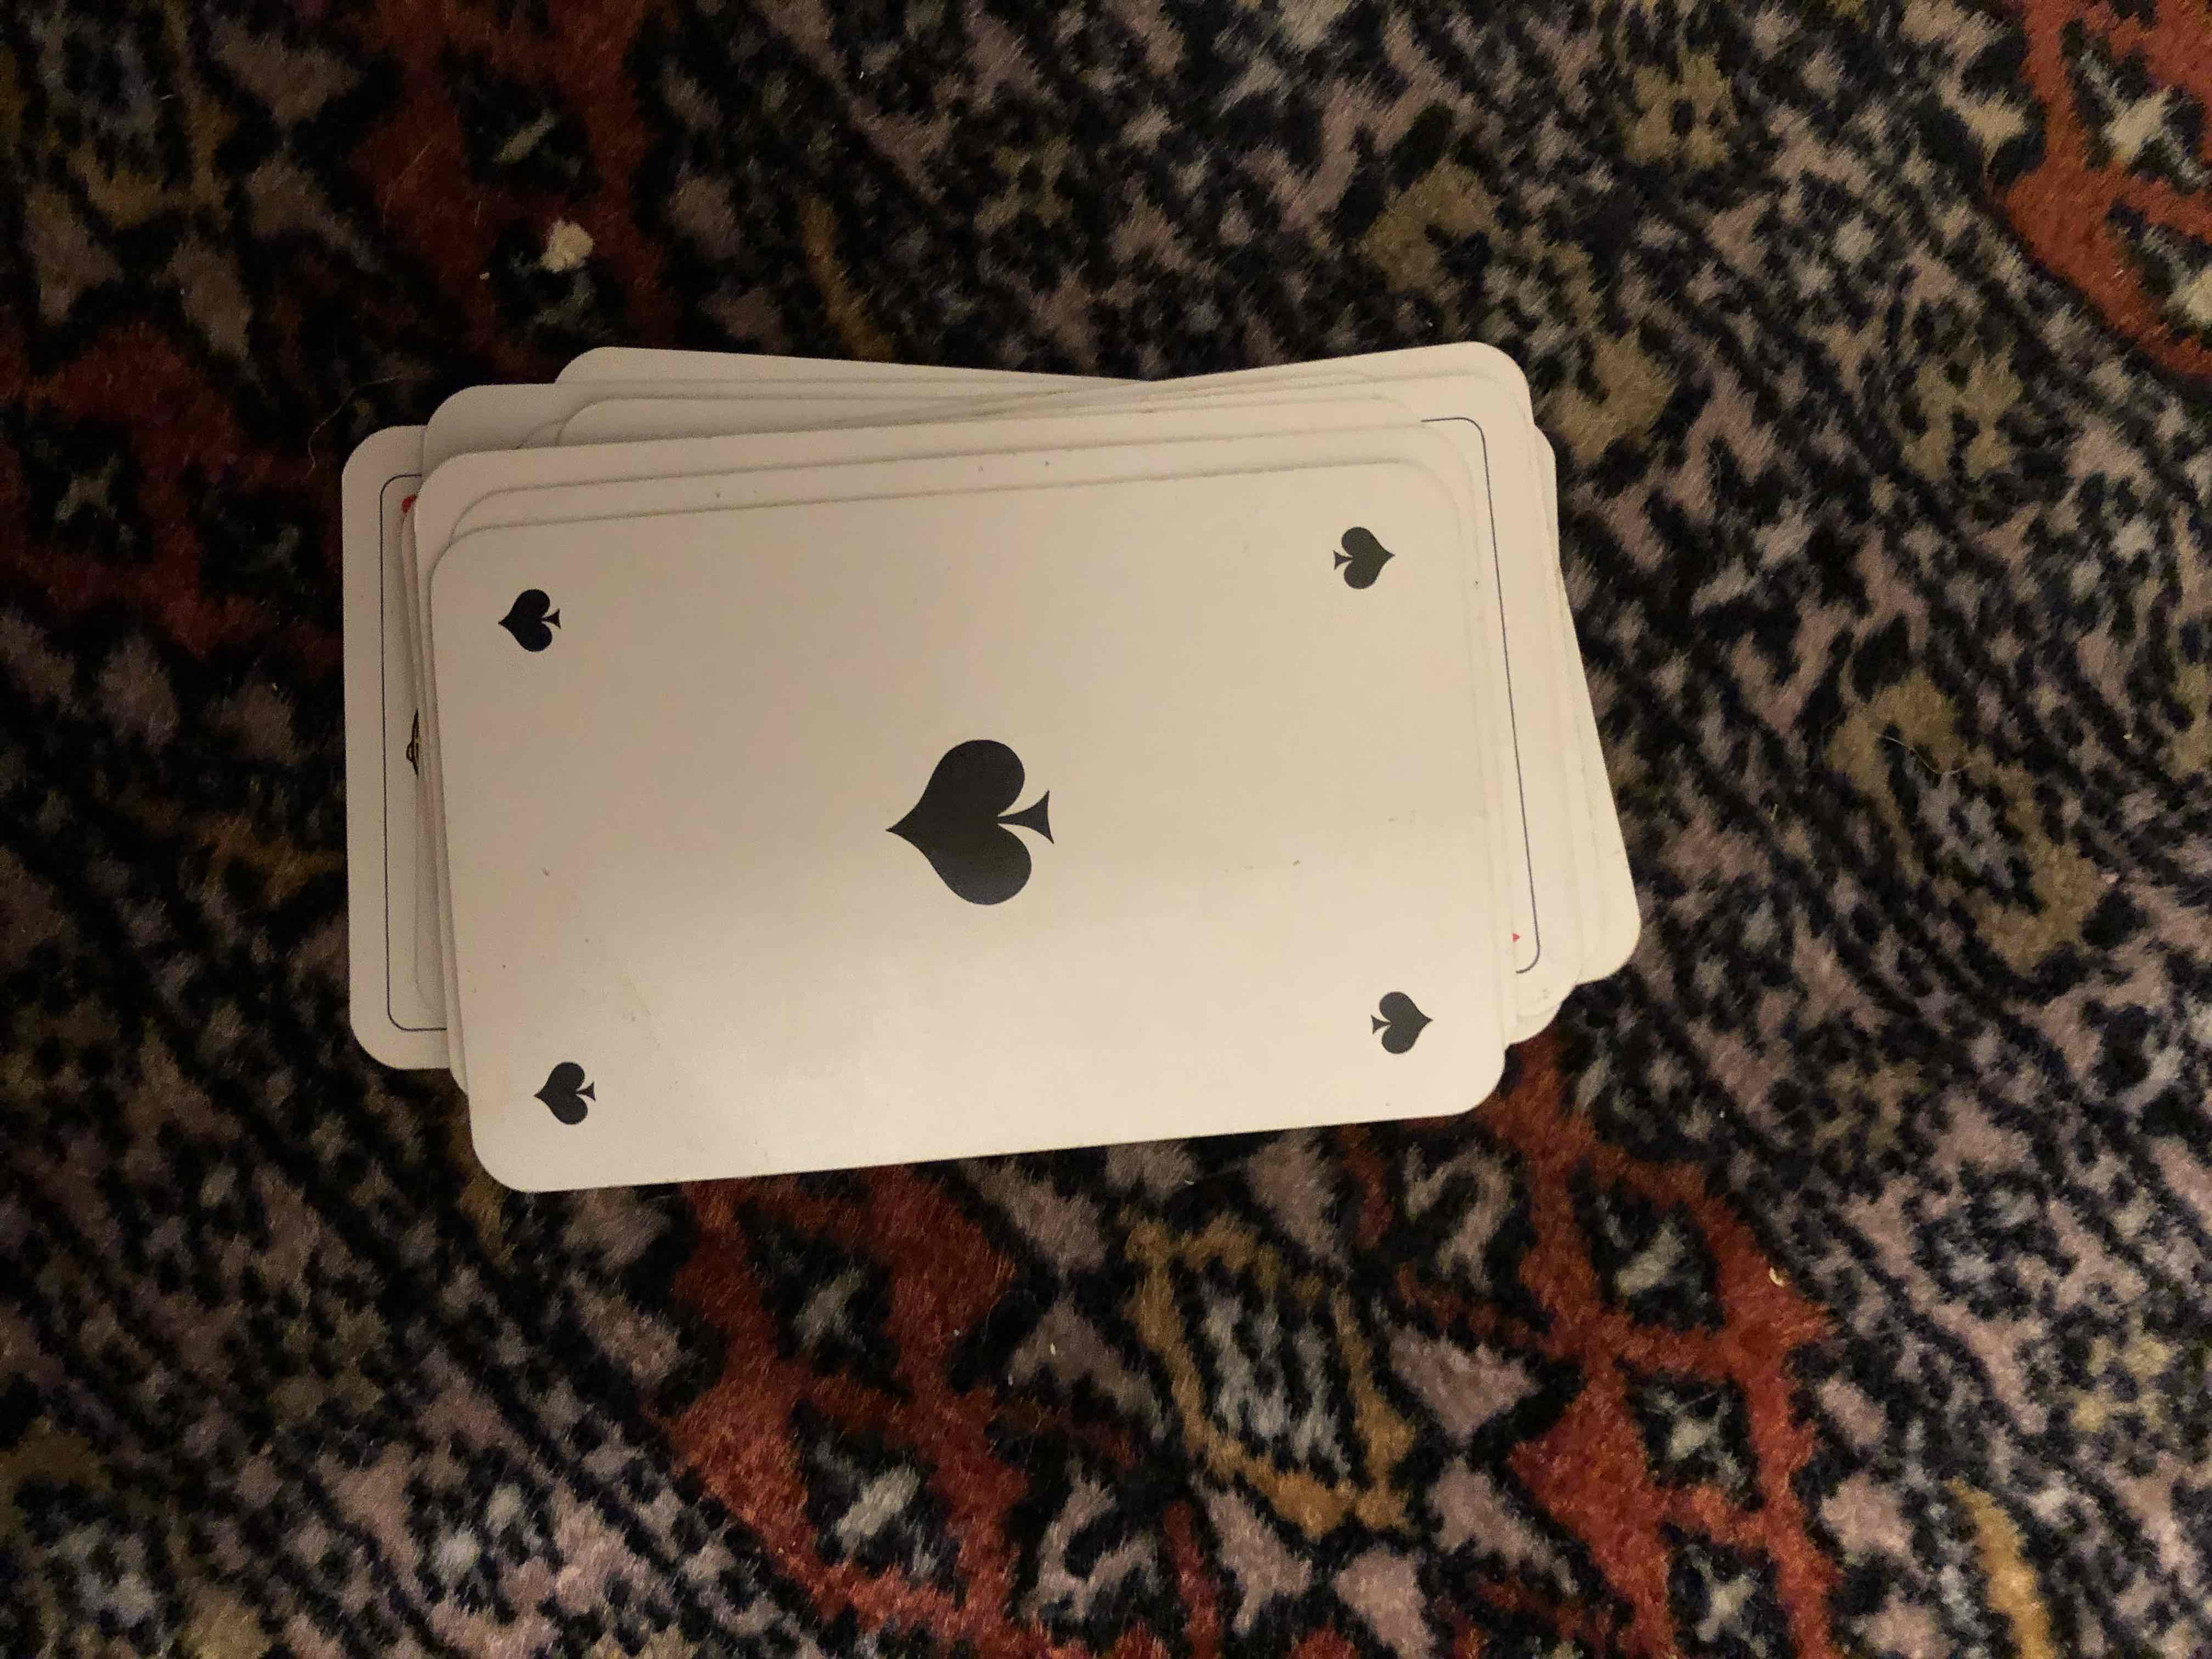spadesAce: (446, 420, 1526, 1169)
